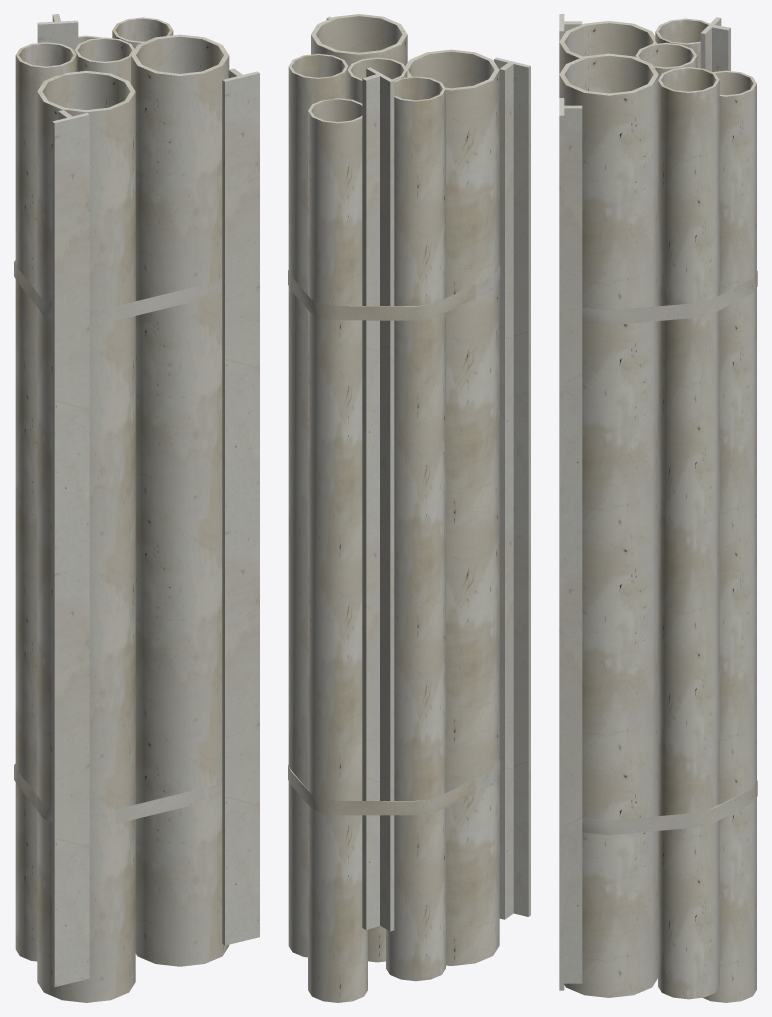
File: ind4_pipes_LOD1.fbx
3 renders of one model, left to right at view 1: azimuth 30°, elevation 25°; view 2: azimuth 150°, elevation 25°; view 3: azimuth 270°, elevation 25°, orthographic. The views are drawn at different scales.
Visible parts, largest first — view 1: Mesh Object; view 2: Mesh Object; view 3: Mesh Object.
Boxes of the visible parts, <box> form: Mesh Object: <box>14,14,259,1002</box>; Mesh Object: <box>288,14,530,1002</box>; Mesh Object: <box>559,14,757,1002</box>.
Bounding box in the file's own units: 4.82 × 3.99 × 20.98.
